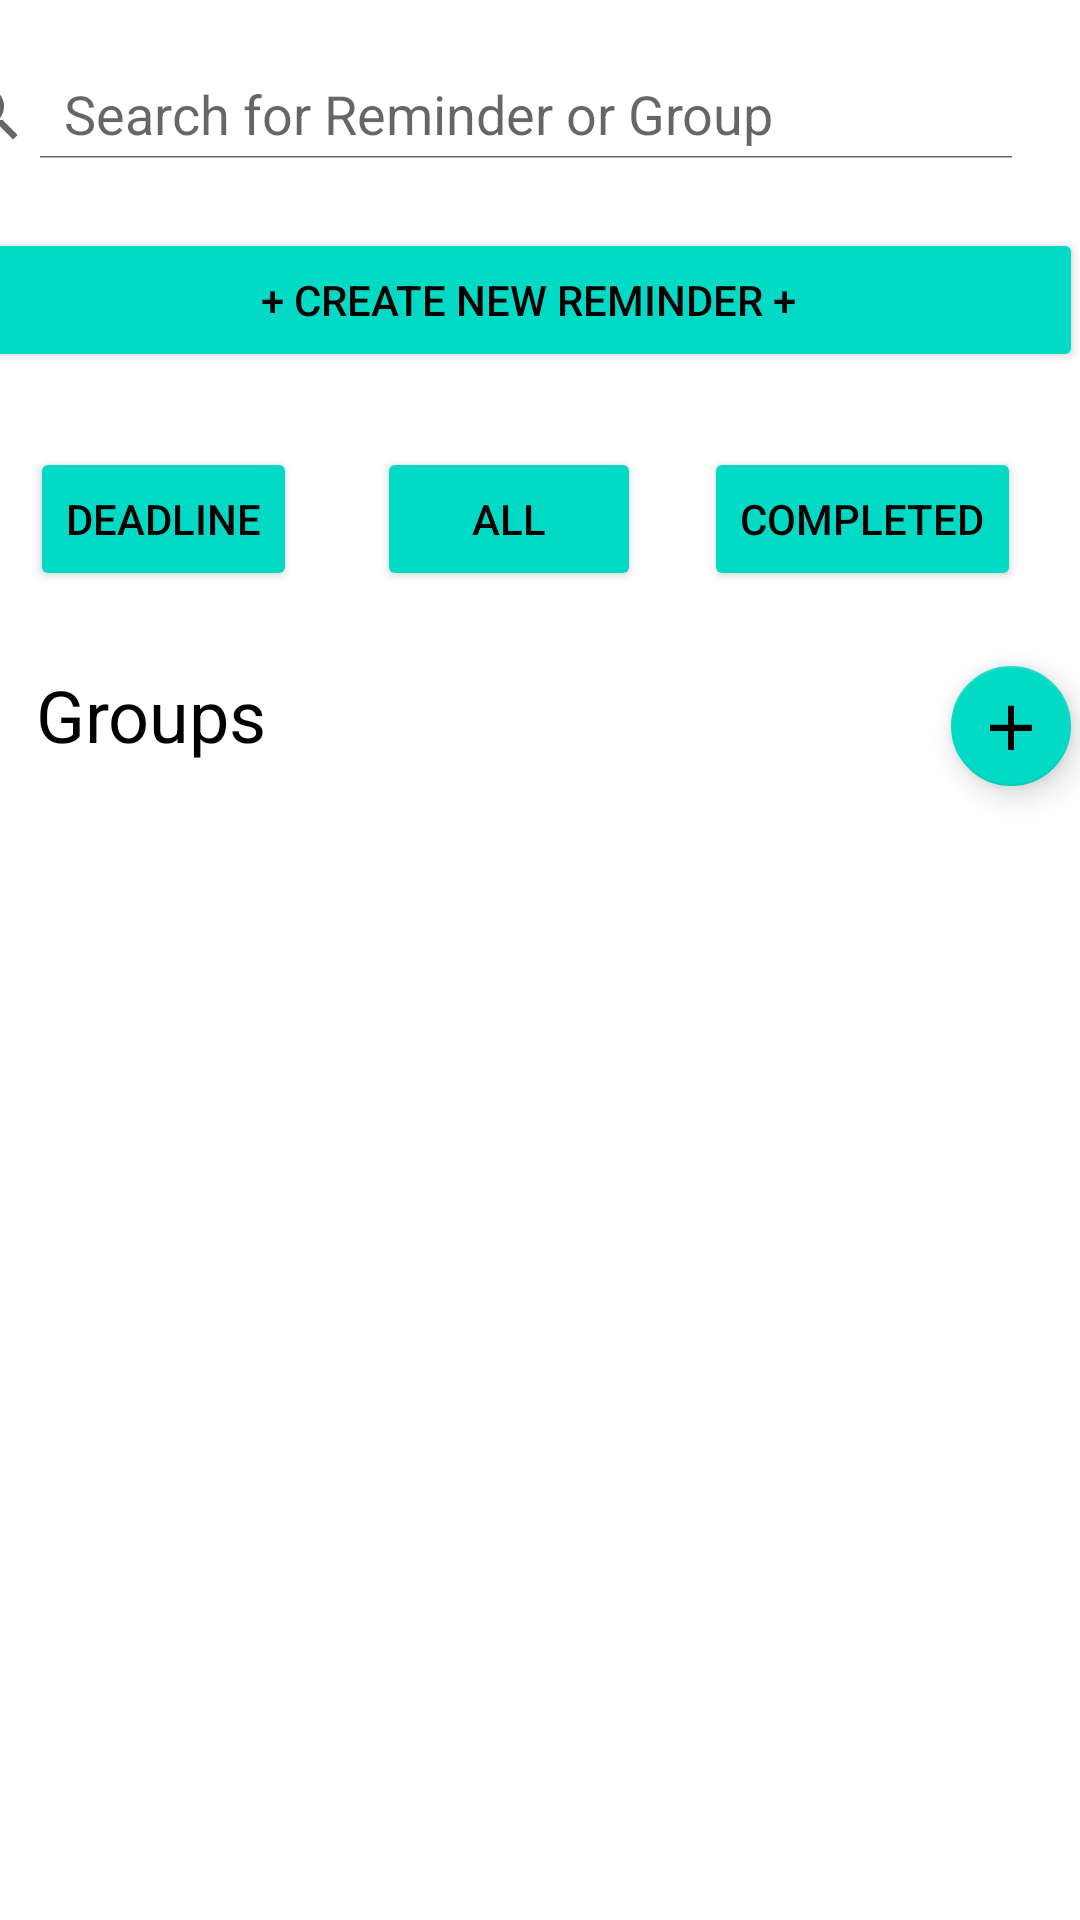

Icon click points for this 1080 x 1920 phone screenshot, format (x,y):
add: (1011,726)
